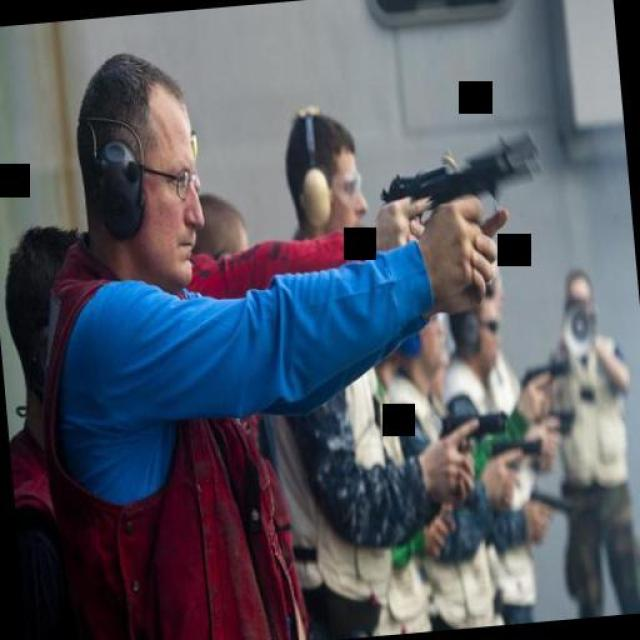gun: (420, 125, 542, 233), (374, 159, 455, 211)
